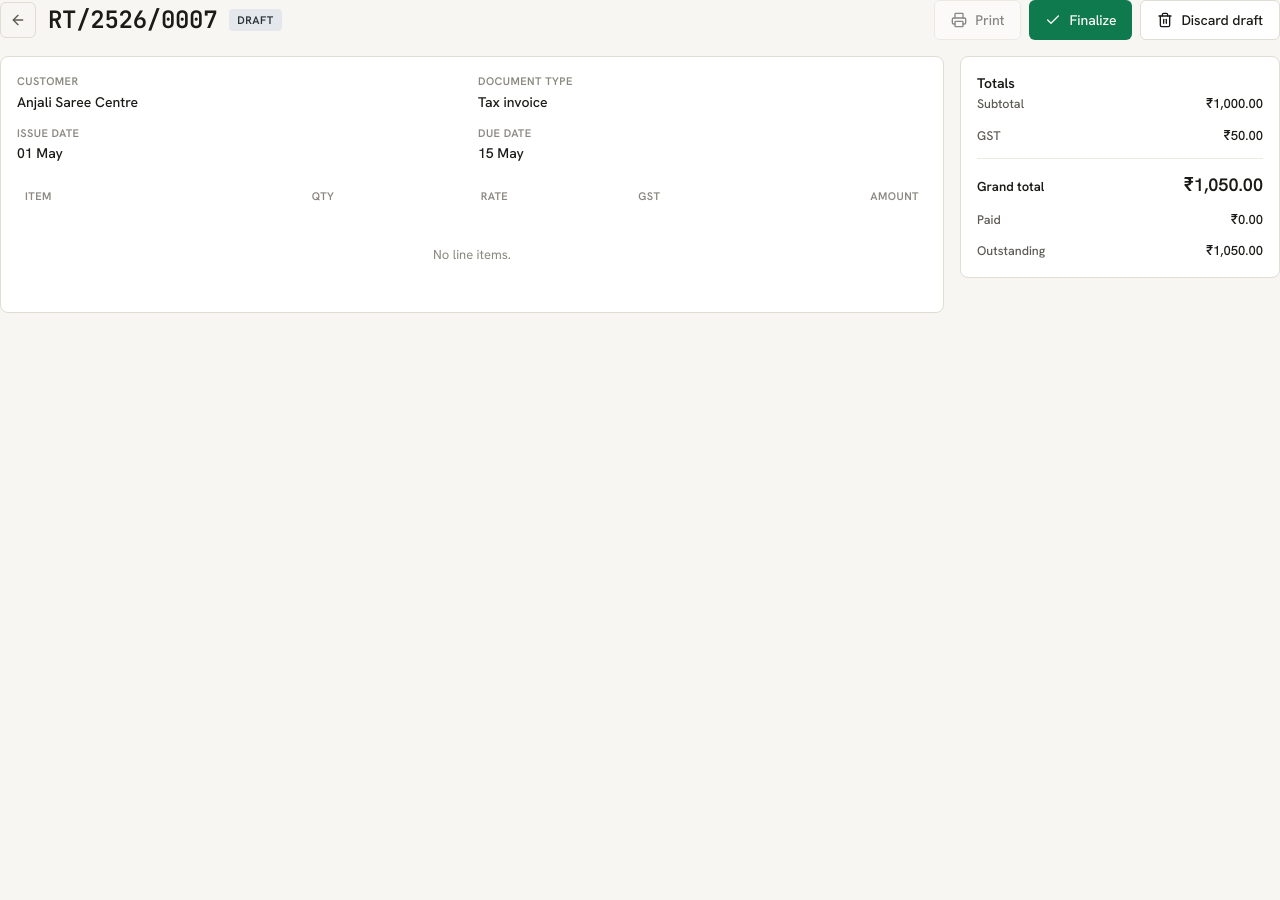
Scenario: InvoiceDetail — Discard draft › confirms, POSTs /discard with an Idempotency-Key, and shows Discarded
The width and height of the screenshot is (1280, 900).
Click the button "Discard draft": point(1210, 20) [1140,0,1279,40]
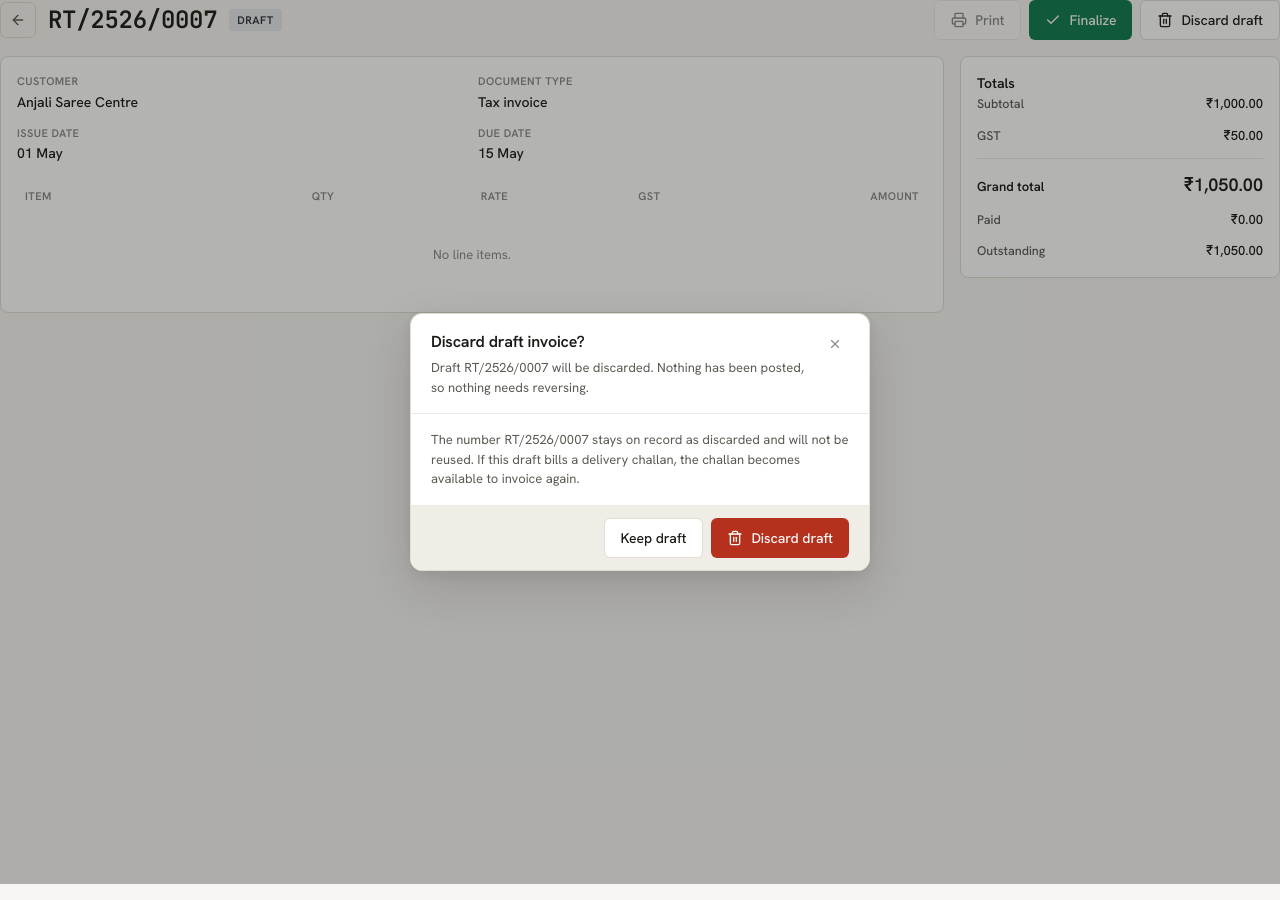
Expected: the text "will not be reused" is shown, [431,431,848,487]
Click the button "Discard draft": point(780, 538) [711,518,849,558]
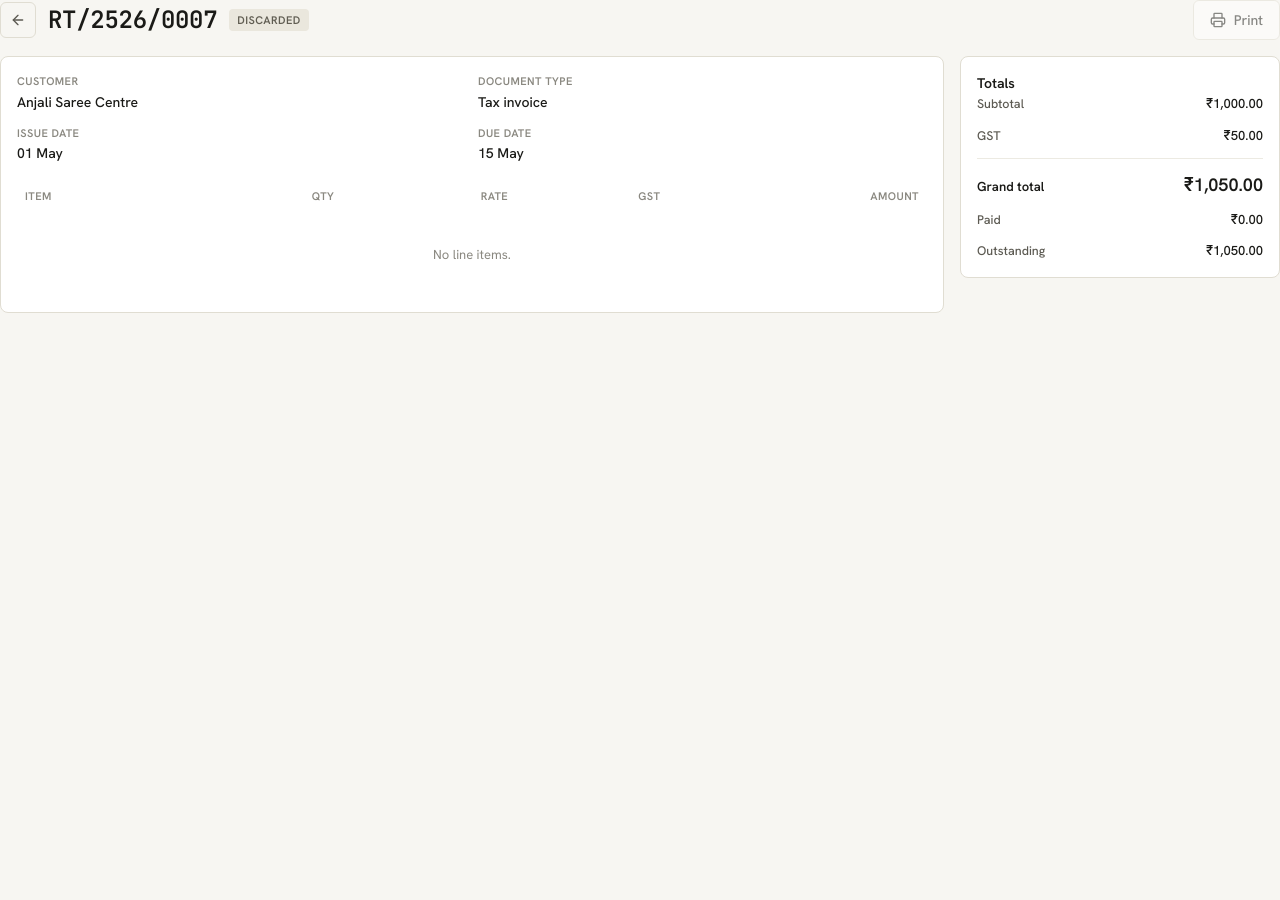
Expected: the text "Discarded" is shown, [229,9,309,31]
Expected: the dialog is gone
Expected: the button "Discard draft" is gone
